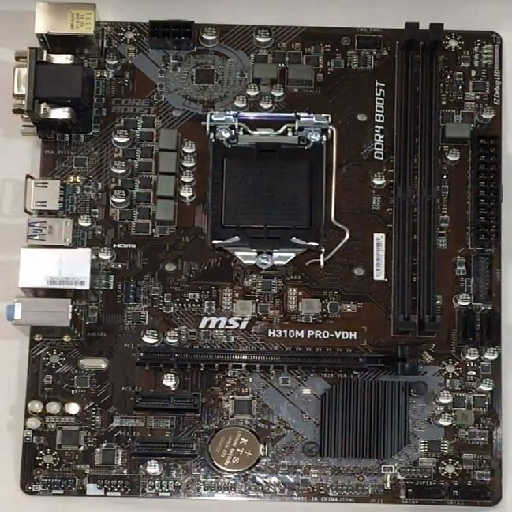CPU: (206, 110, 336, 270)
GPU: (133, 341, 417, 376)
MOTHERBOARD: (10, 7, 505, 505)
RAM: (388, 21, 450, 337)
